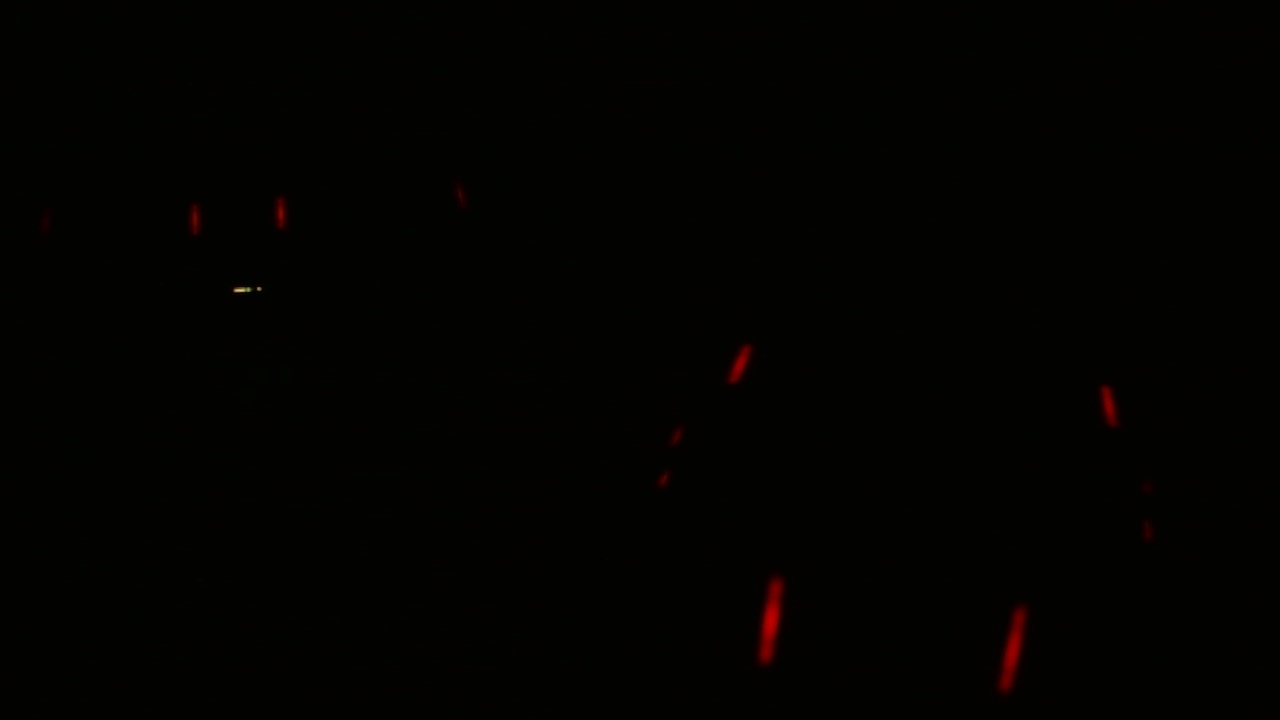pair1: (176, 188, 300, 249)
pair2: (749, 571, 1030, 707)
